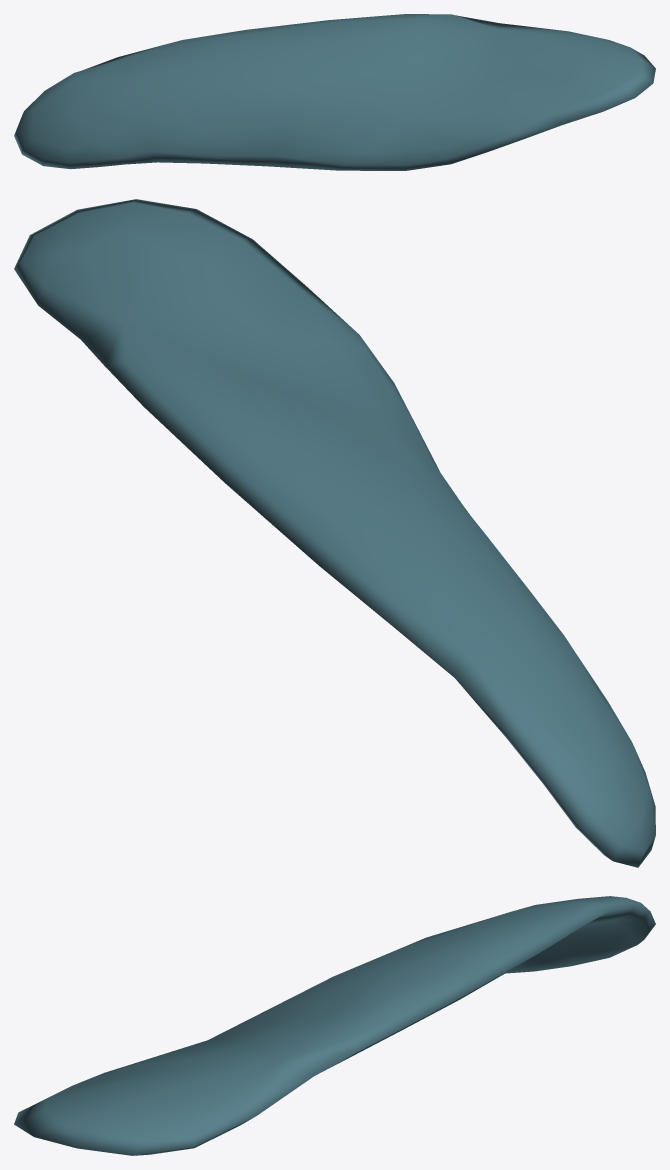
File: Piriformis_muscle_in_trochanteric_fossa.l_Generated_Mesh_From_X.glb
The picture shows the model from 3 angles, top to bottom: view 1: azimuth 30°, elevation 25°; view 2: azimuth 150°, elevation 25°; view 3: azimuth 270°, elevation 25°; orthographic projection. The views are drawn at different scales.
Visible parts, largest first — view 1: Piriformis_muscle_in_trochanteric_fossa.l_Generated_Mesh_Fro; view 2: Piriformis_muscle_in_trochanteric_fossa.l_Generated_Mesh_Fro; view 3: Piriformis_muscle_in_trochanteric_fossa.l_Generated_Mesh_Fro.
Boxes of the visible parts, bbox=[...] form: Piriformis_muscle_in_trochanteric_fossa.l_Generated_Mesh_Fro: bbox=[14, 14, 655, 170]; Piriformis_muscle_in_trochanteric_fossa.l_Generated_Mesh_Fro: bbox=[14, 199, 655, 867]; Piriformis_muscle_in_trochanteric_fossa.l_Generated_Mesh_Fro: bbox=[14, 896, 655, 1155].
Bounding box in the file's own units: 0.0156 × 0.00382 × 0.0119.
